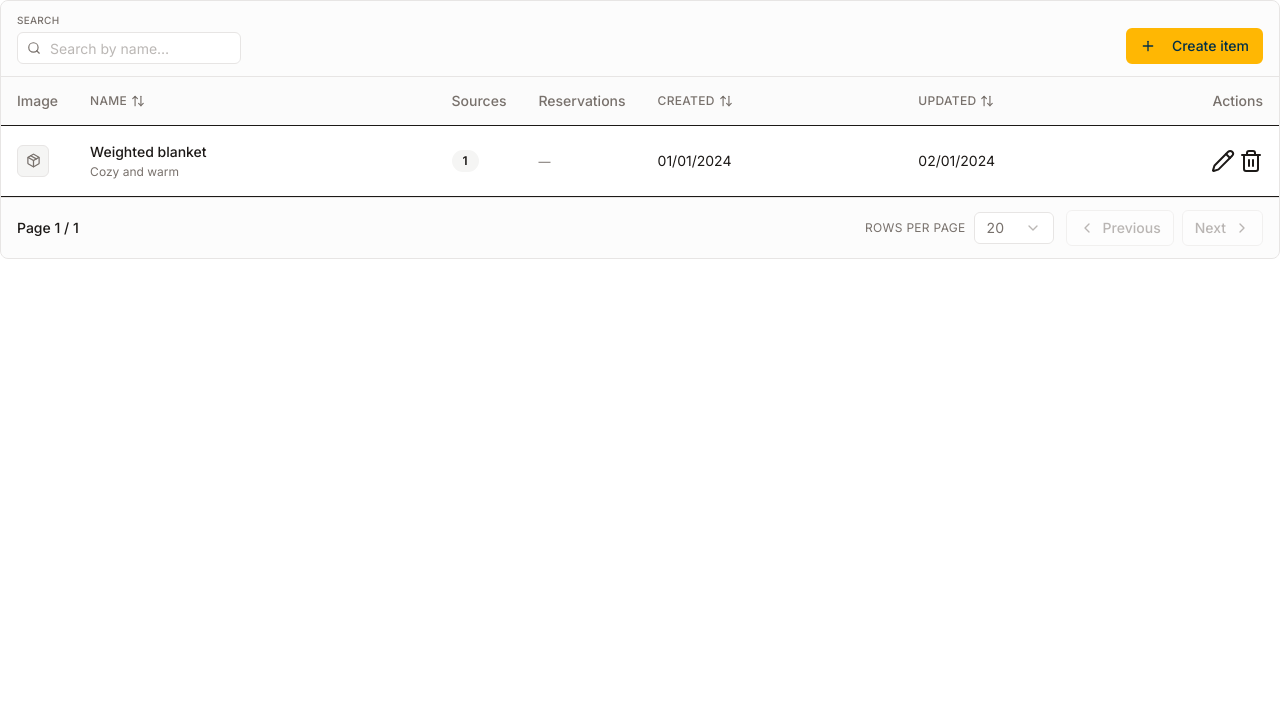
Test: ItemsList › expands the row inline to show the sources manager when the row is clicked
Click the text "Weighted blanket". click: {"x": 148, "y": 151}
box: [90, 142, 207, 160]
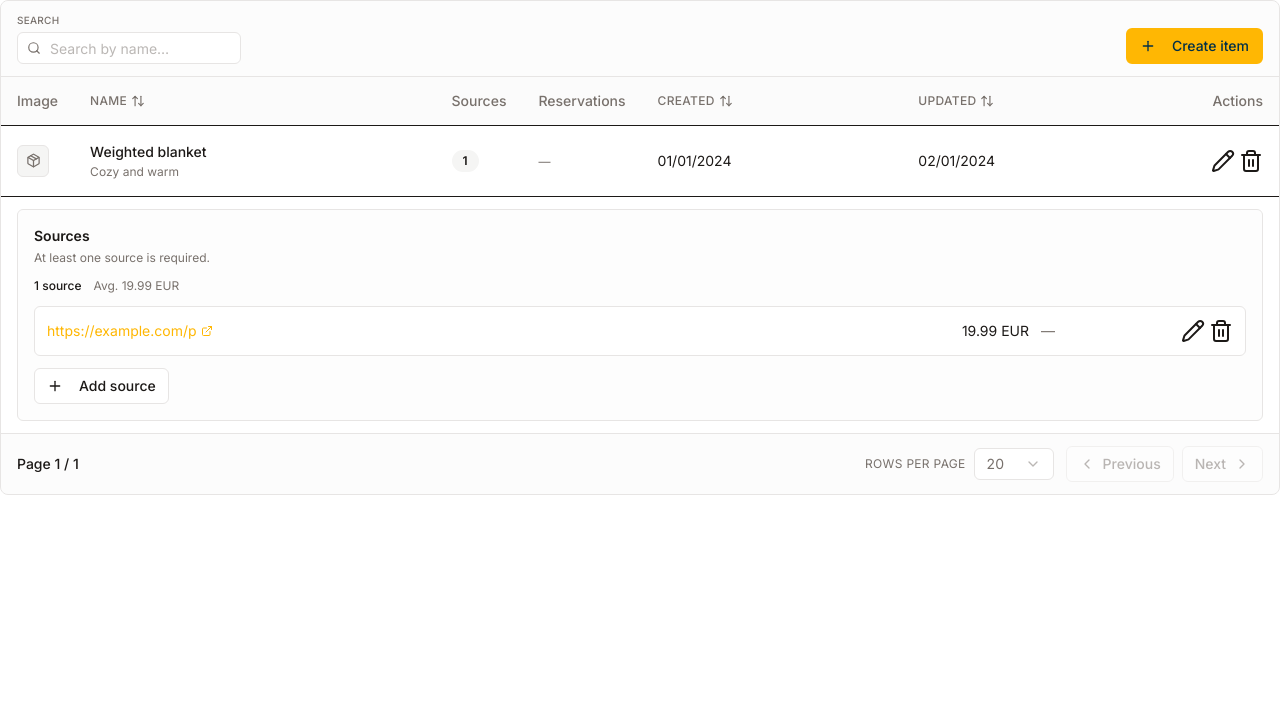
Result: the text "https://example.com/p" is shown at [47, 320, 197, 340]
